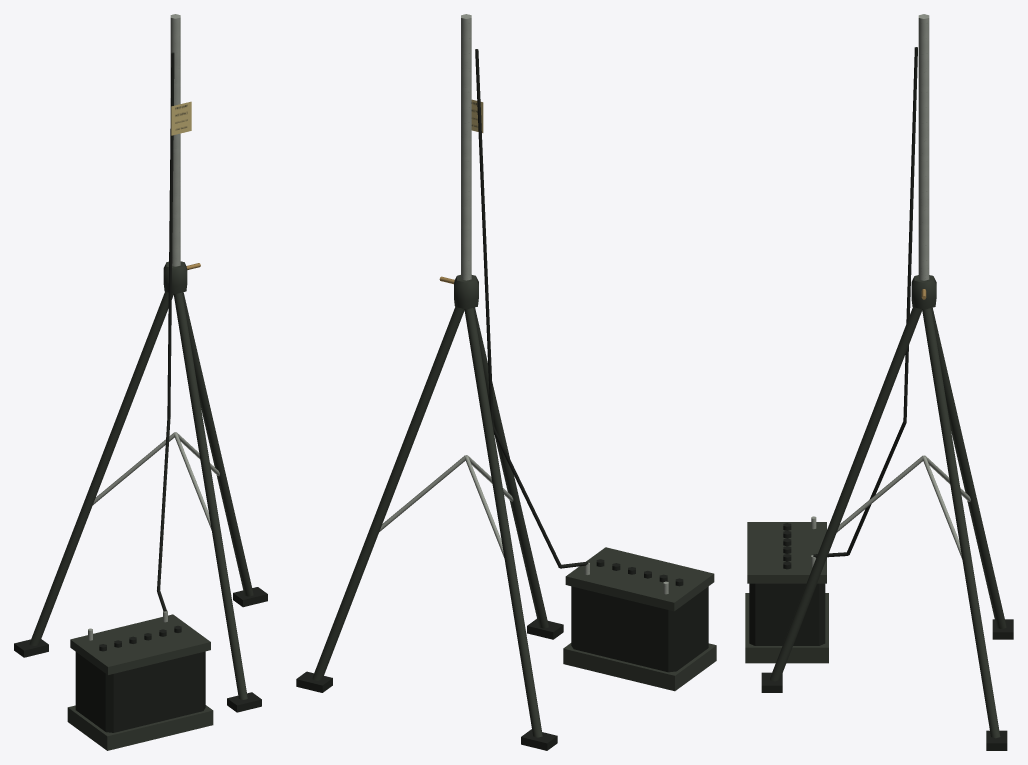
The model's file is SM_FieldKit_LampStand_LOD2.glb.
The picture shows the model from 3 angles, left to right: view 1: azimuth 30°, elevation 25°; view 2: azimuth 150°, elevation 25°; view 3: azimuth 270°, elevation 25°; orthographic projection. The views are drawn at different scales.
Visible parts, largest first — view 1: SM_FieldKit_LampStand_LOD2; view 2: SM_FieldKit_LampStand_LOD2; view 3: SM_FieldKit_LampStand_LOD2.
Part boxes in pixels (x1,y1,x2,y2): SM_FieldKit_LampStand_LOD2: [14, 14, 267, 750]; SM_FieldKit_LampStand_LOD2: [296, 14, 716, 750]; SM_FieldKit_LampStand_LOD2: [745, 14, 1013, 750].
Bounding box in the file's own units: 0.881 × 1.95 × 0.7056.
Materials: 5 (2 with a texture image).
